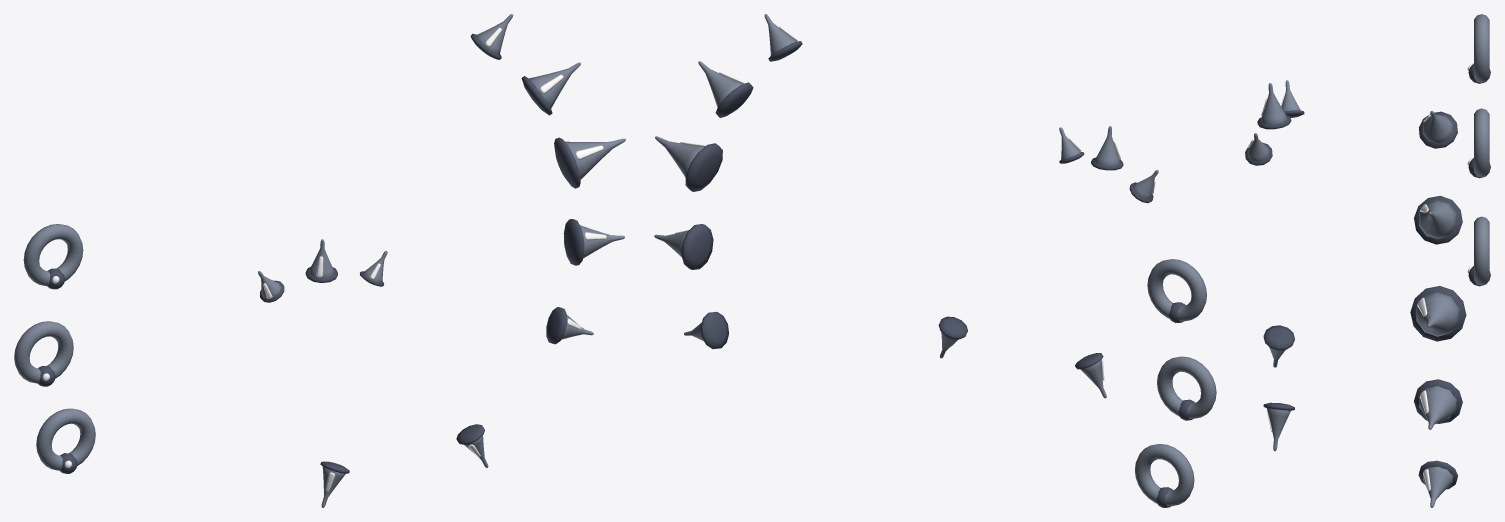
The model's file is piercings.glb.
3 views of the same model, side by side, from view 1: azimuth 30°, elevation 25°; view 2: azimuth 150°, elevation 25°; view 3: azimuth 270°, elevation 25° (orthographic). The views are drawn at different scales.
Parts seen in each view (by area): view 1: piercing_rings, piercing_edge_collars, piercing_edge, piercing_glints, piercing_brow, piercing_beads; view 2: piercing_rings, piercing_edge_collars, piercing_edge, piercing_brow, piercing_bites_collars, piercing_beads; view 3: piercing_edge, piercing_edge_collars, piercing_rings, piercing_brow, piercing_bites_collars, piercing_bites, piercing_glints, piercing_brow_collars, piercing_beads.
Part boxes in pixels (box(x1,y1,x2,y2)): piercing_rings: box(14, 224, 95, 470); piercing_edge_collars: box(470, 33, 584, 344); piercing_edge: box(476, 14, 625, 339); piercing_glints: box(42, 27, 606, 491); piercing_brow: box(258, 239, 387, 298); piercing_beads: box(38, 268, 77, 473); piercing_rings: box(1135, 259, 1216, 506); piercing_edge_collars: box(681, 41, 802, 349); piercing_edge: box(654, 14, 796, 341); piercing_brow: box(1059, 126, 1158, 199); piercing_bites_collars: box(938, 316, 1103, 369); piercing_beads: box(1156, 302, 1194, 507); piercing_edge: box(1416, 111, 1459, 507); piercing_edge_collars: box(1410, 111, 1466, 489); piercing_rings: box(1474, 14, 1489, 285); piercing_brow: box(1248, 80, 1300, 161); piercing_bites_collars: box(1263, 325, 1294, 410); piercing_bites: box(1267, 347, 1290, 450); piercing_glints: box(1248, 64, 1471, 491); piercing_brow_collars: box(1245, 110, 1304, 165); piercing_beads: box(1468, 63, 1490, 286).
Bounding box in the file's own units: 1.38 × 0.844 × 0.4809.
